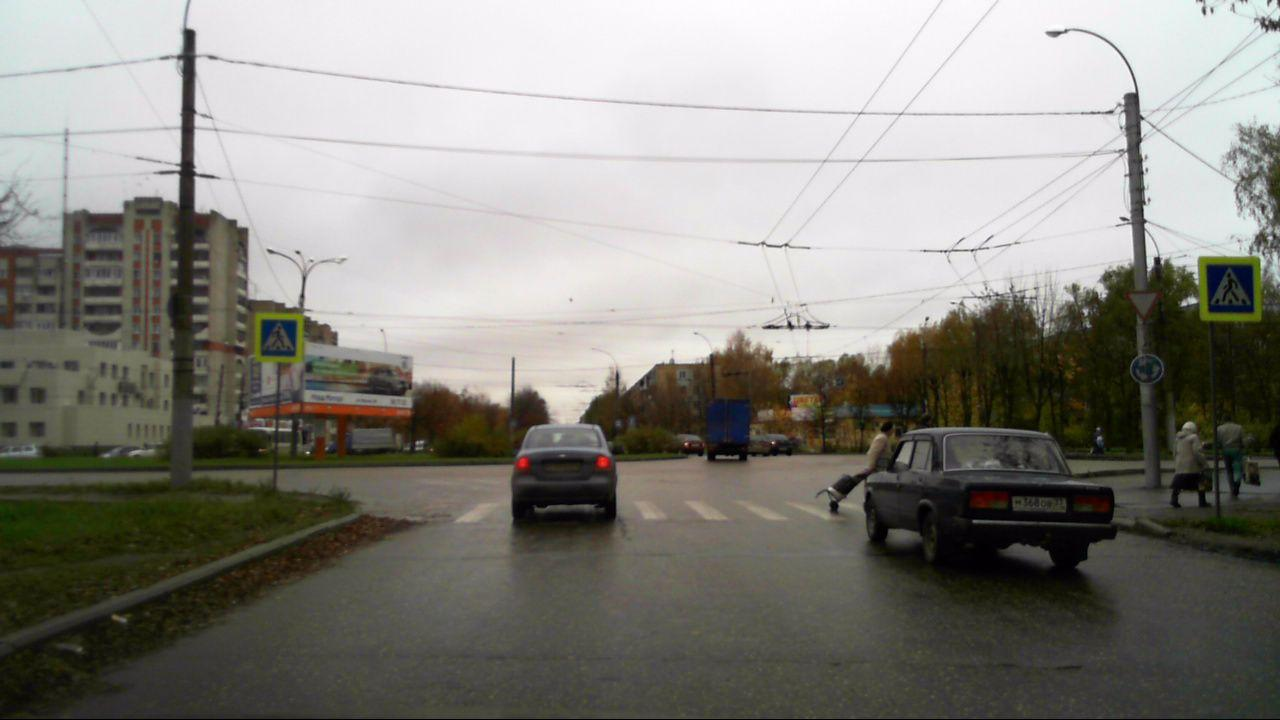2_4: (1126, 289, 1160, 319)
4_3: (1129, 353, 1164, 385)
5_19_1: (1205, 260, 1257, 315)
5_19_2: (262, 319, 300, 356)
